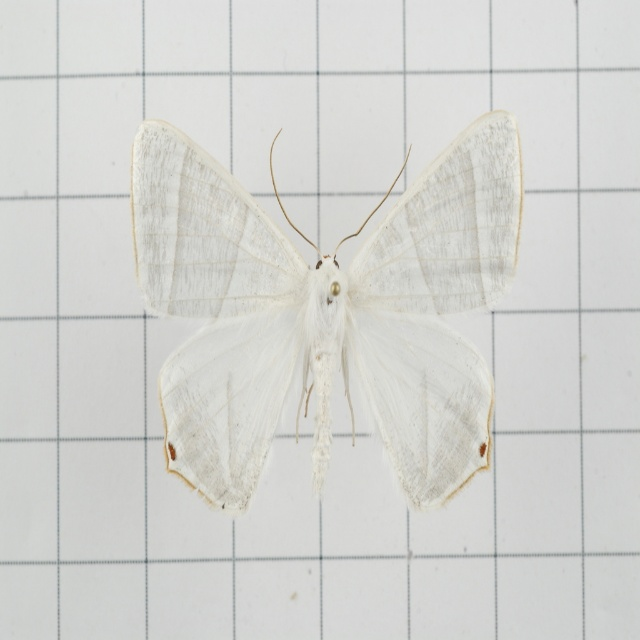Butterfly: (120, 117, 531, 517)
